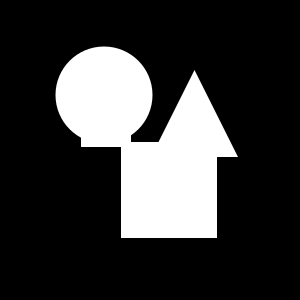circle: (121, 142, 217, 238), (81, 97, 131, 147)
rectangle: (56, 46, 152, 143)
triangle: (151, 70, 238, 157)
